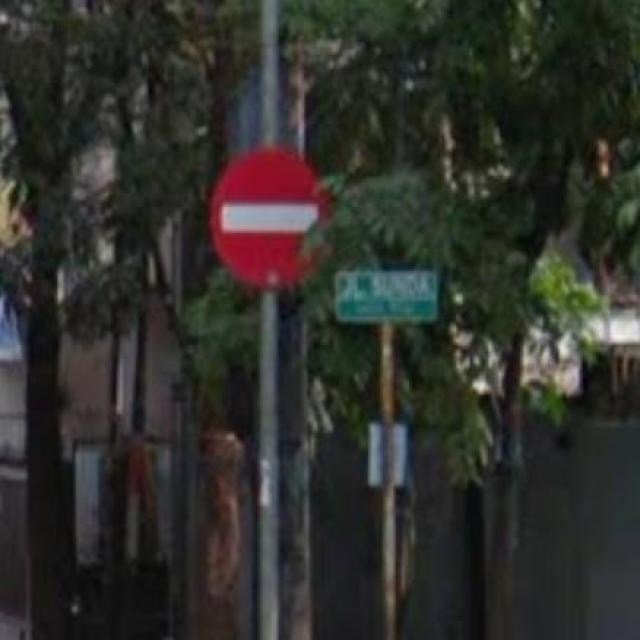traffic sign: (212, 155, 328, 282)
